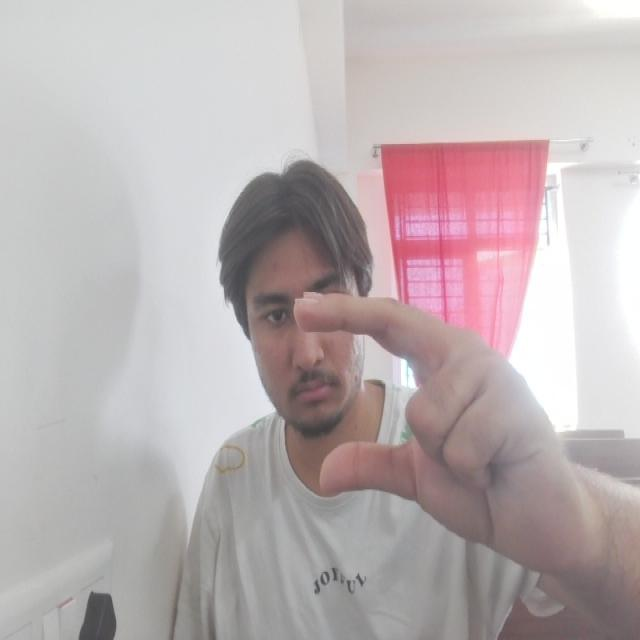no: (292, 282, 586, 570)
